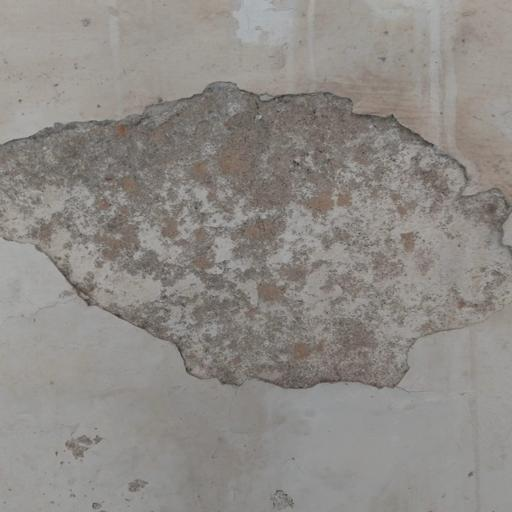peeling: (0, 73, 512, 396)
